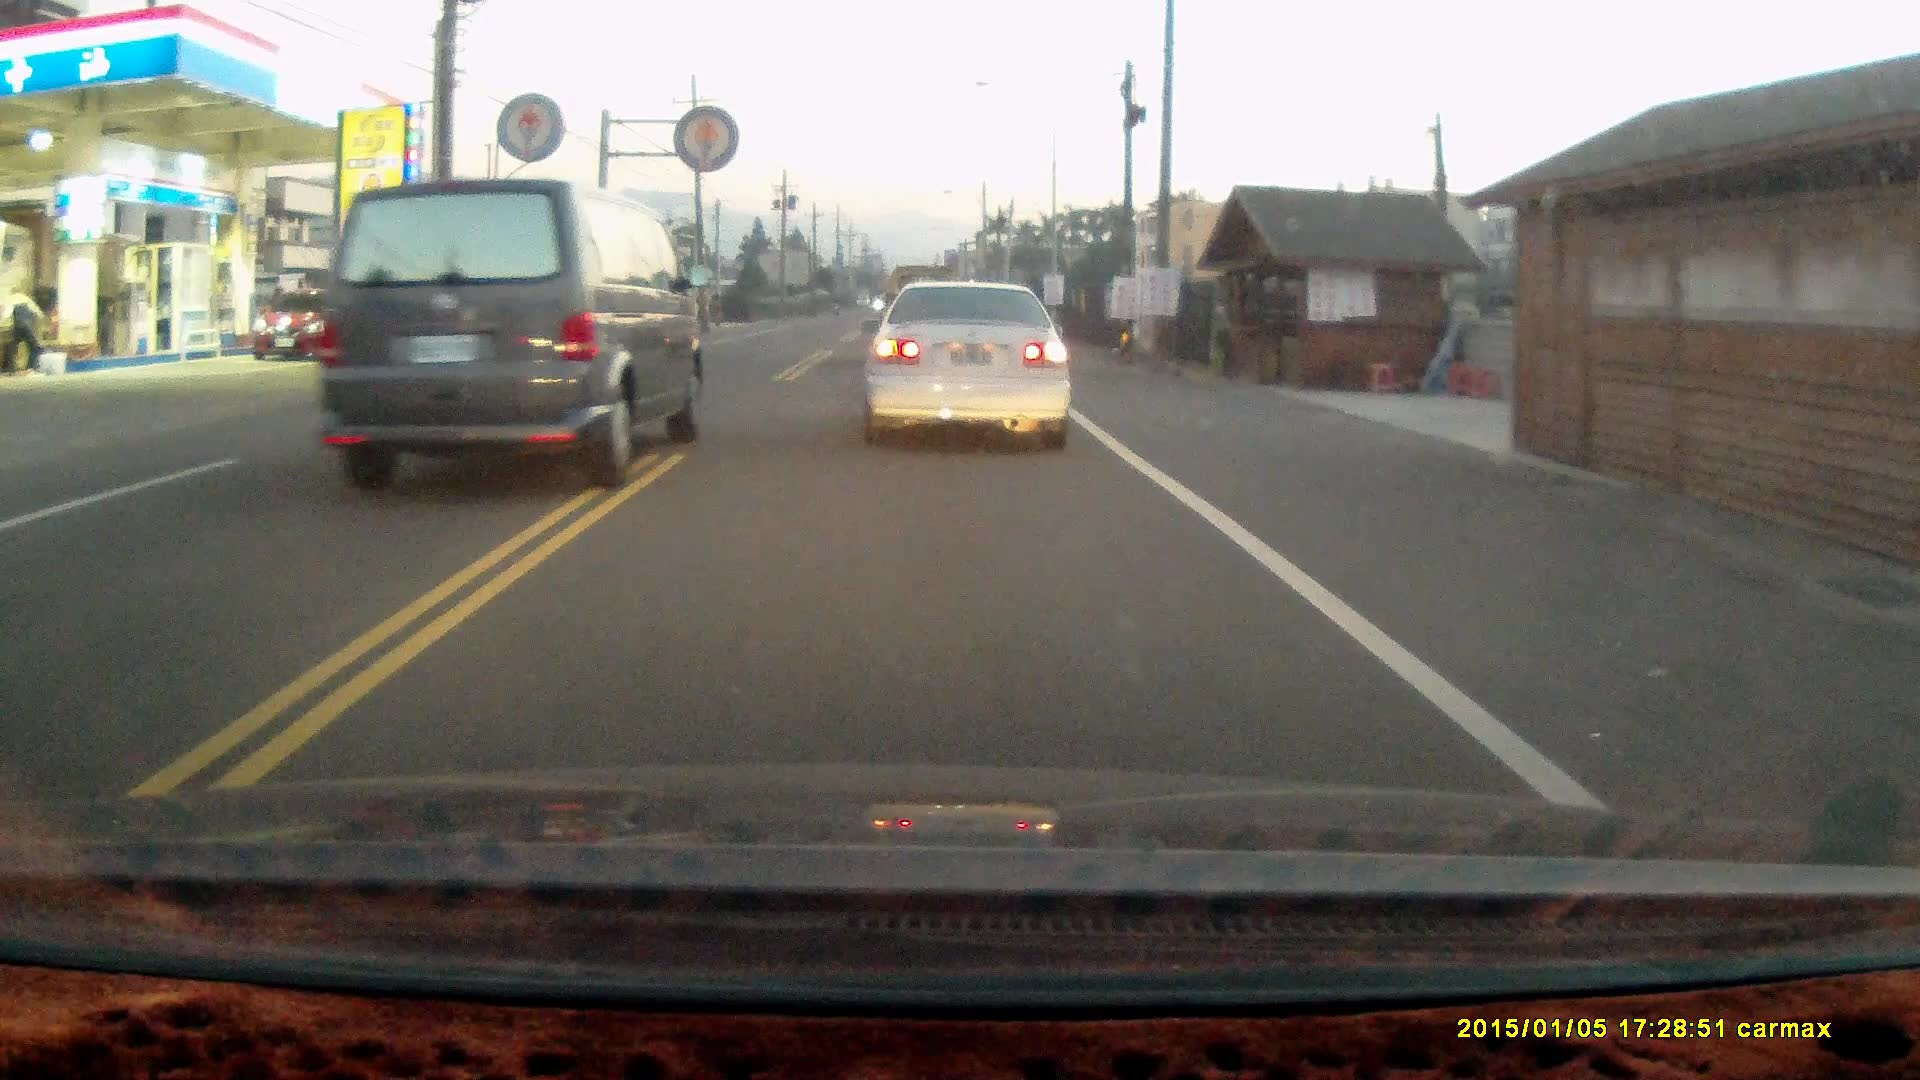pedestrian: (10, 282, 44, 372)
vehicle: (312, 175, 709, 496), (863, 278, 1077, 457)
